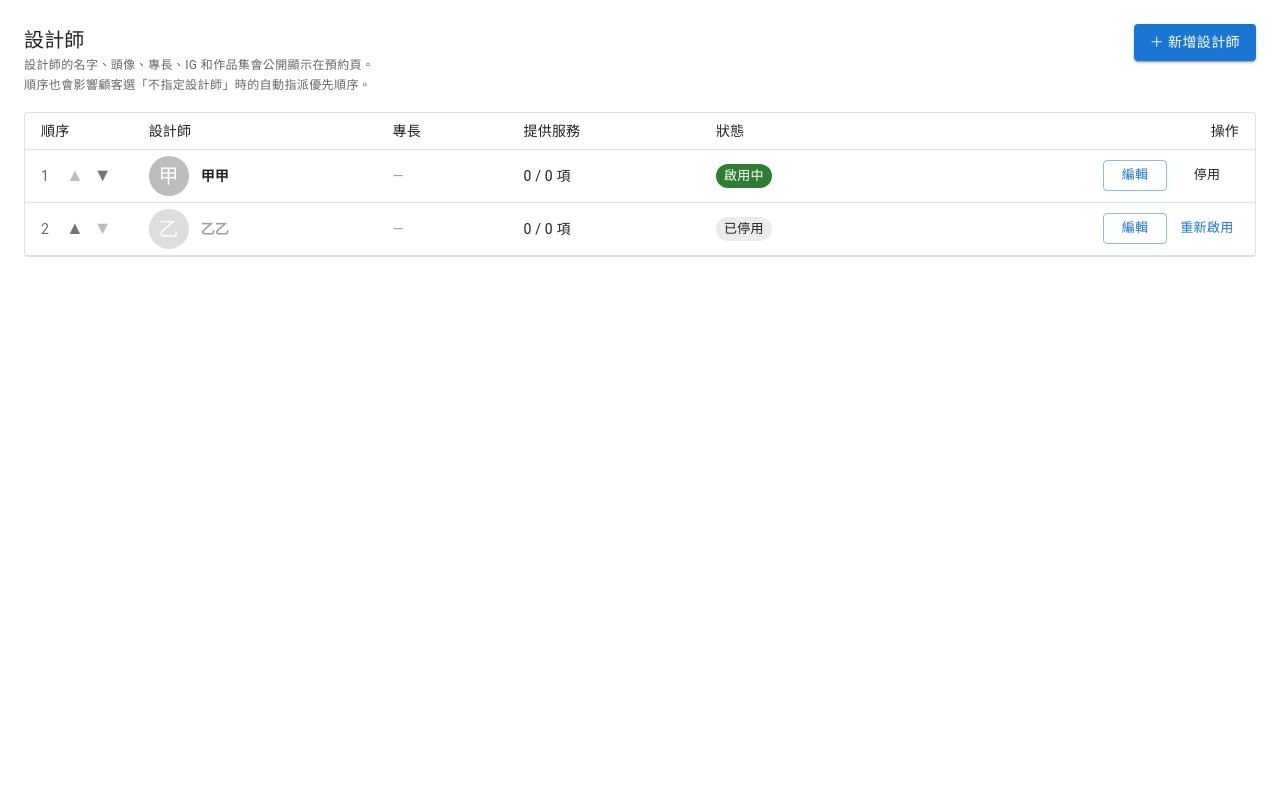
DesignersTable › 停用最後一位啟用中的設計師時額外警告
The image size is (1280, 800).
Click the button "停用" at (1207,176), box [1175,160,1239,191]
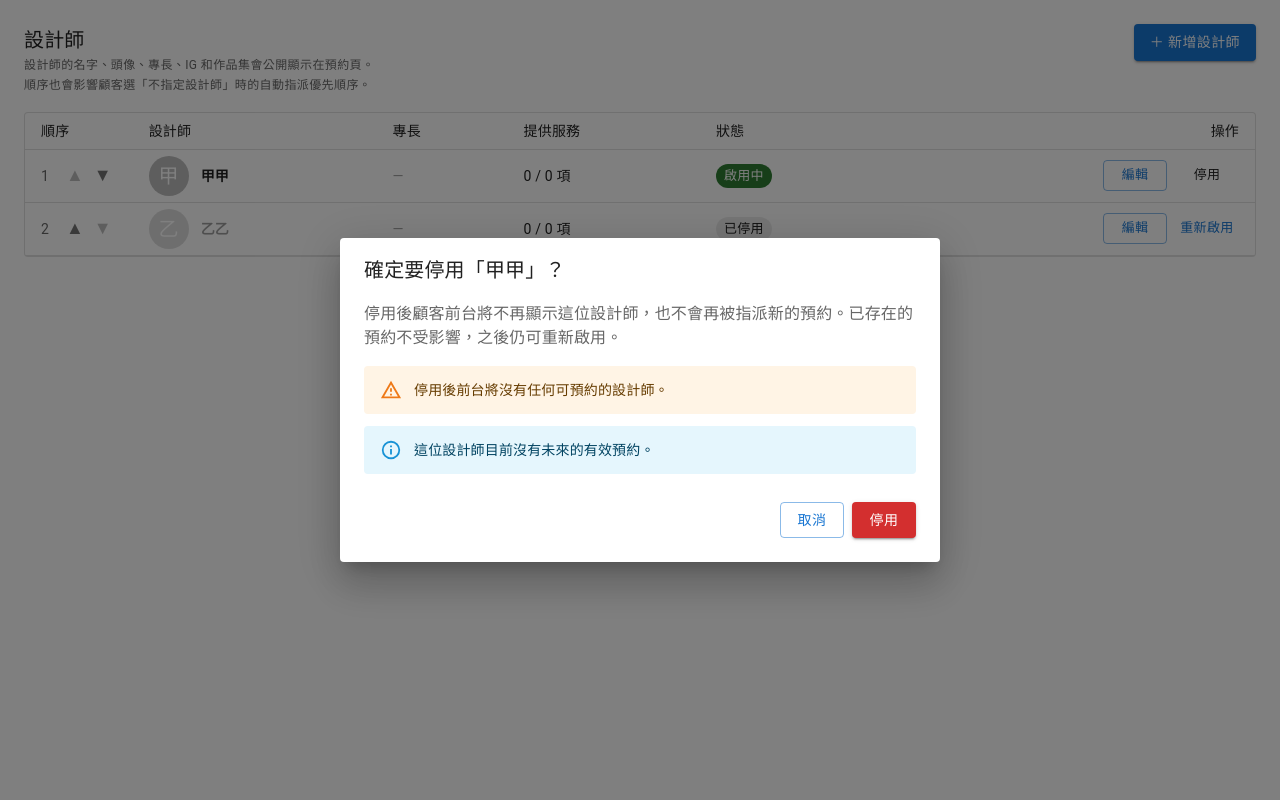
Check: the text "停用後前台將沒有任何可預約的設計師。" is shown, box [414,382,669,398]
Check: the text "這位設計師目前沒有未來的有效預約。" is shown, box [414,442,655,458]
